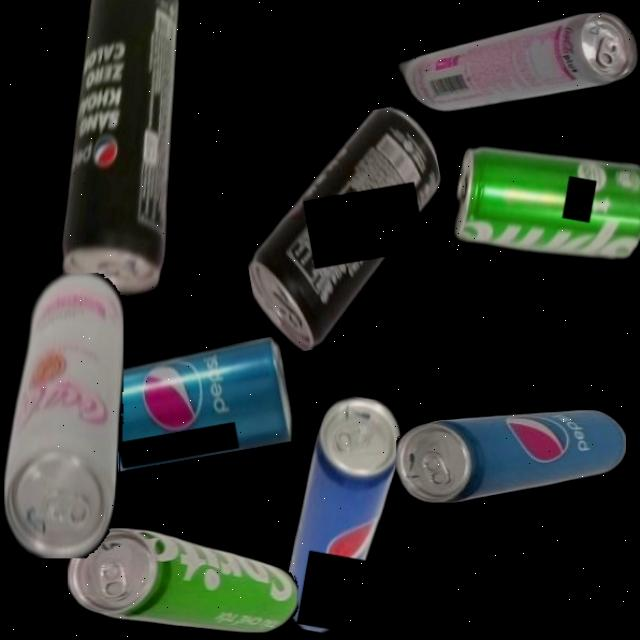debris: (226, 101, 466, 358), (41, 0, 212, 302), (3, 272, 124, 558), (279, 391, 407, 640), (87, 336, 296, 474), (446, 134, 640, 274), (396, 10, 639, 111), (68, 528, 298, 632), (396, 409, 626, 503)
